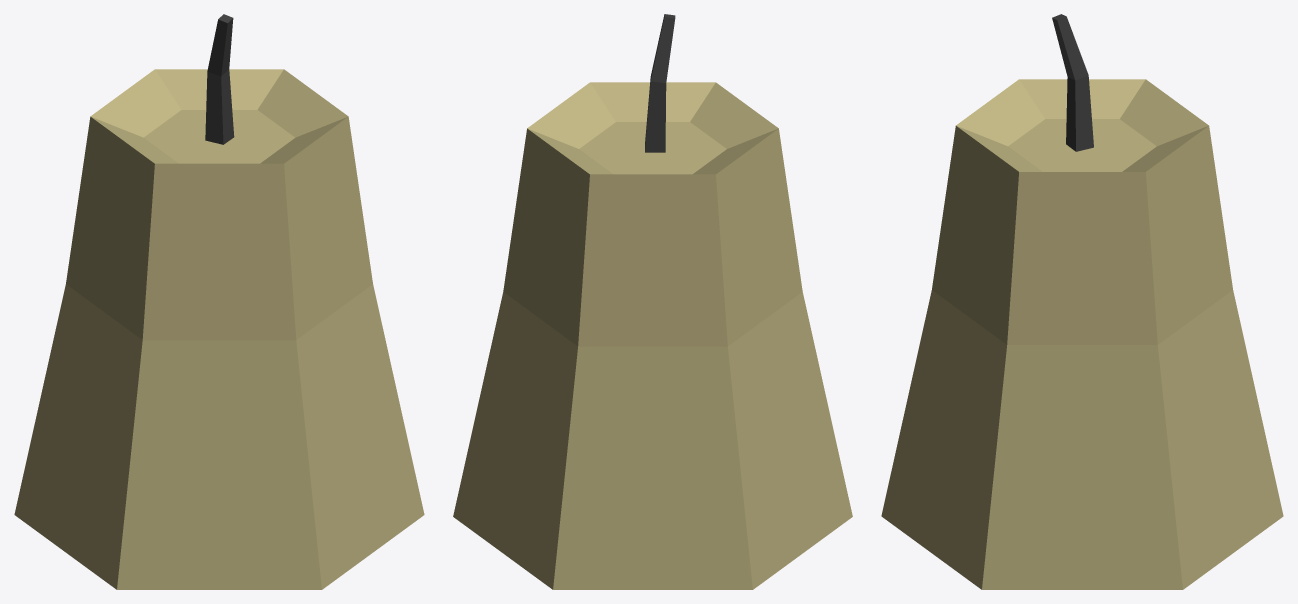
Rendered from candle_3.fbx.
3 views of the same model, side by side, from view 1: azimuth 30°, elevation 25°; view 2: azimuth 150°, elevation 25°; view 3: azimuth 270°, elevation 25° (orthographic). The views are drawn at different scales.
Parts seen in each view (by area): view 1: candle_3; view 2: candle_3; view 3: candle_3.
Part boxes in pixels (x1=…): candle_3: x1=14, y1=14, x2=424, y2=589; candle_3: x1=453, y1=14, x2=852, y2=589; candle_3: x1=881, y1=14, x2=1283, y2=589.
Size of the model in its own units: 14.13 by 22.29 by 16.32.
